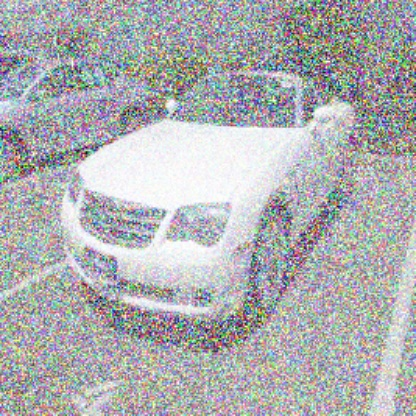Vehicle: (60, 72, 356, 326)
